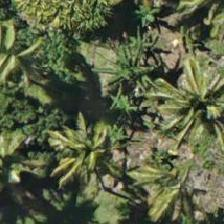coconut_tree: (36, 112, 126, 202), (136, 147, 223, 223), (157, 51, 223, 141), (0, 13, 55, 103)
